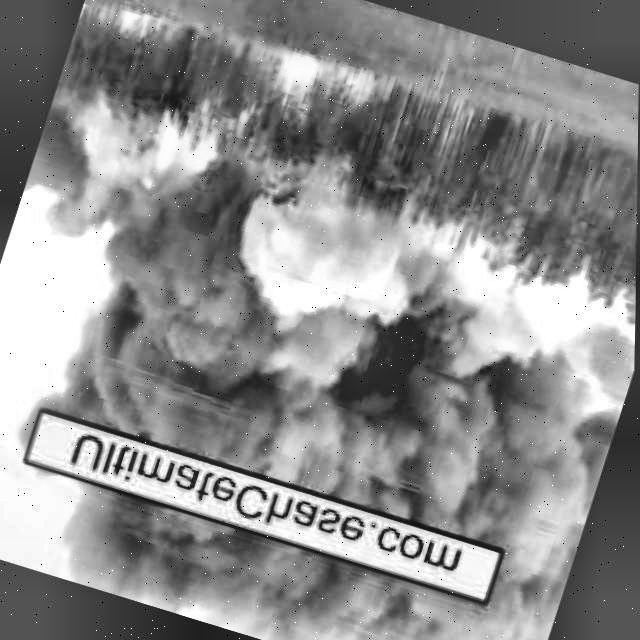Fire: (129, 98, 229, 210), (271, 52, 325, 103), (341, 64, 384, 114), (116, 8, 155, 37)
Smoke: (37, 165, 638, 565), (38, 472, 557, 640)
